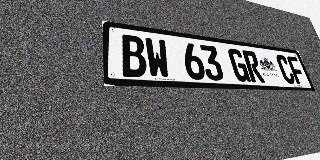3: (199, 44, 225, 81)
6: (181, 42, 207, 80)
B: (120, 34, 148, 78)
C: (275, 54, 297, 84)
F: (286, 56, 307, 84)
G: (227, 48, 251, 82)
R: (242, 50, 265, 83)
W: (144, 37, 171, 79)
